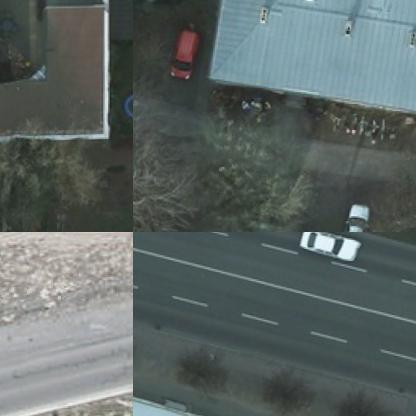car: (298, 232, 364, 266), (176, 24, 205, 82), (335, 205, 379, 231)
